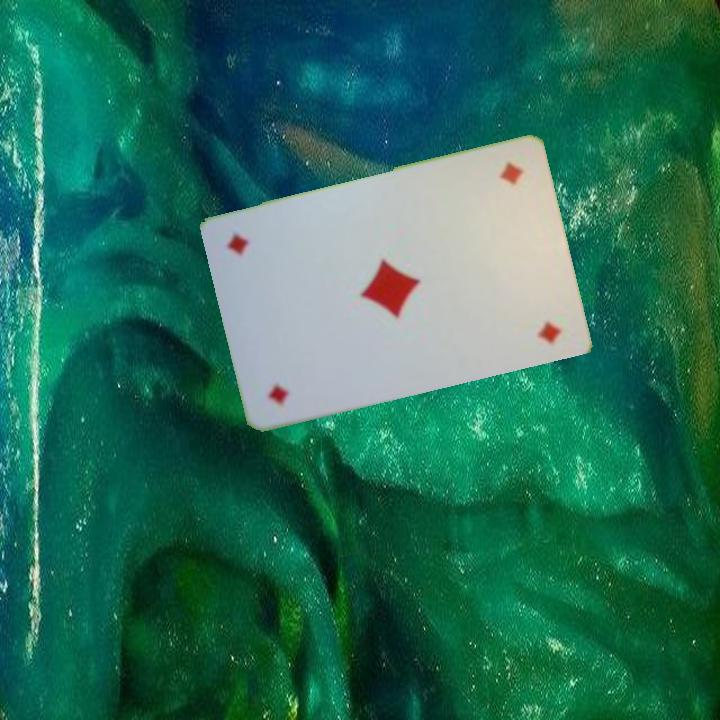d_a.png: (238, 298, 344, 414), (446, 151, 551, 268)
